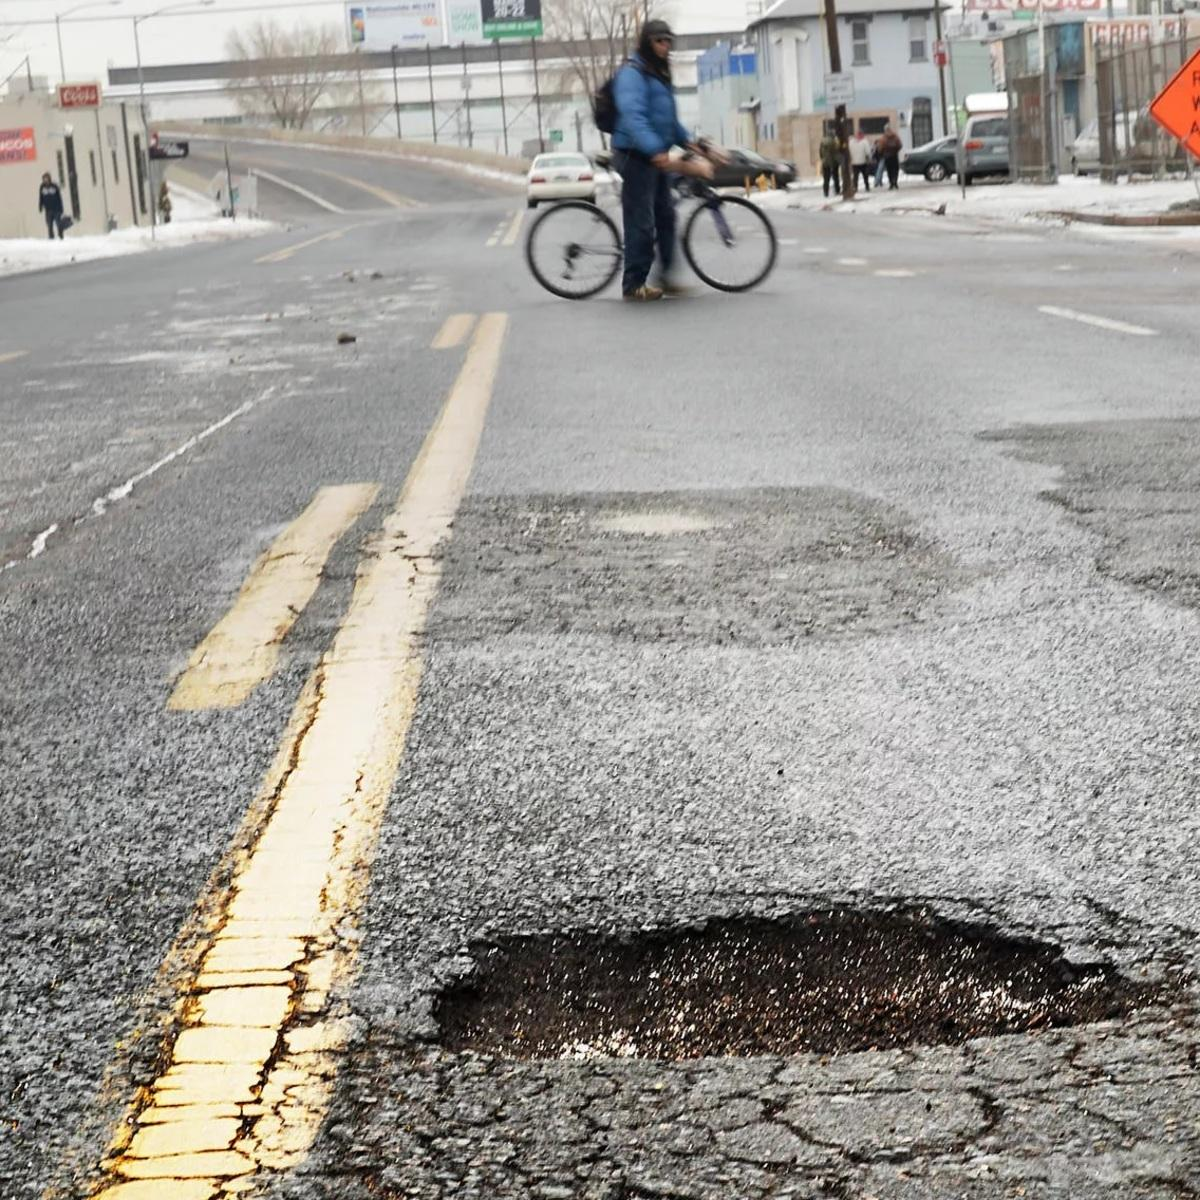pothole: (397, 887, 1179, 1096)
